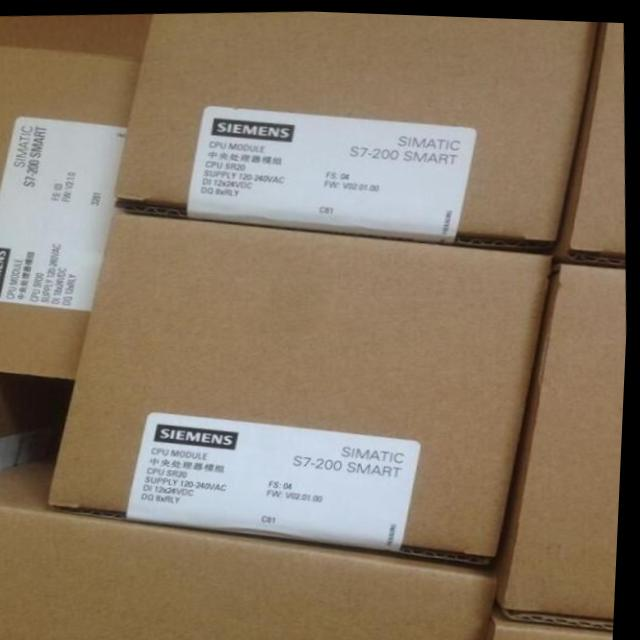box: (52, 208, 553, 562), (118, 10, 597, 244), (0, 457, 501, 640), (0, 44, 144, 379), (502, 253, 628, 624), (565, 18, 626, 249), (493, 612, 619, 640)
